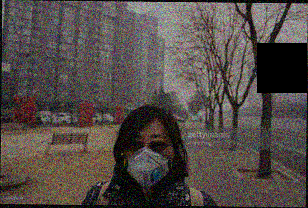with_mask: (123, 131, 174, 192)
